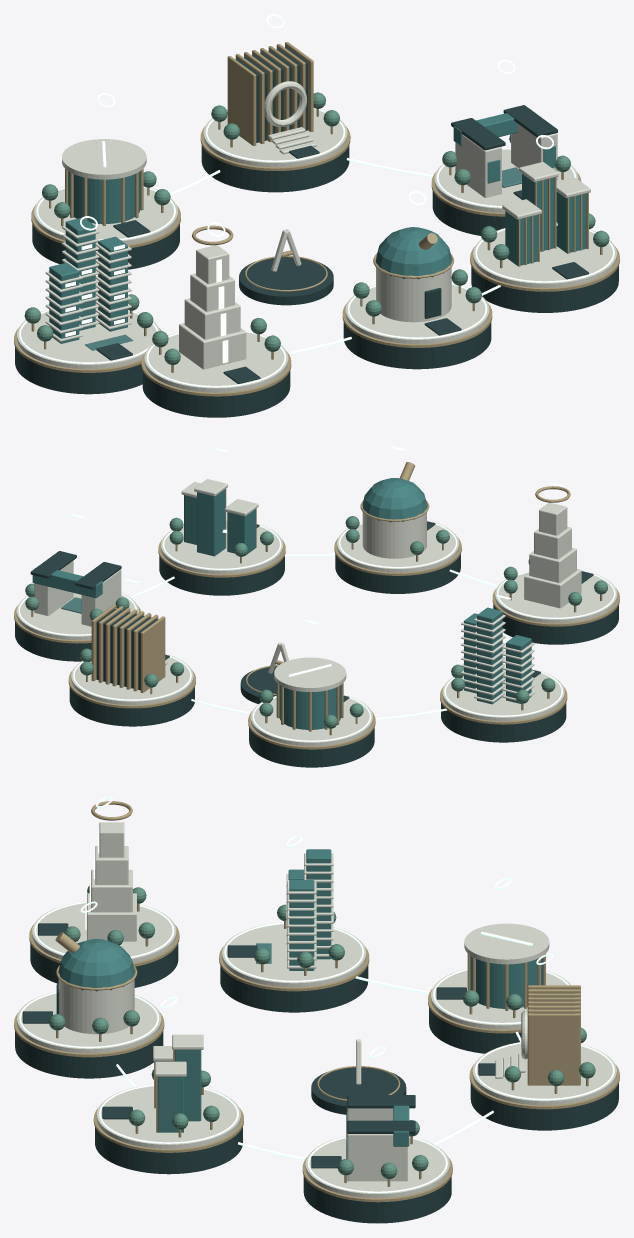
The model's file is apex-world.glb.
3 views of the same model, one above another, from view 1: azimuth 30°, elevation 25°; view 2: azimuth 150°, elevation 25°; view 3: azimuth 270°, elevation 25° (orthographic). The views are drawn at different scales.
Parts seen in each view (by area): view 1: Architecture_6_Warm porcelain, Architecture_0_Warm porcelain, Architecture_5_Warm porcelain, Architecture_2_Champagne alloy, Architecture_4_Warm porcelain, Architecture_1_Warm porcelain, Architecture_2_Midnight mineral, Architecture_3_Warm porcelain, Architecture_0_Smoked jade glazing, Architecture_2_Warm porcelain, Architecture_5_Midnight mineral, Architecture_4_Smoked jade glazing (+22 smaller); view 2: Architecture_6_Warm porcelain, Architecture_2_Champagne alloy, Architecture_0_Warm porcelain, Architecture_5_Warm porcelain, Architecture_1_Warm porcelain, Architecture_2_Midnight mineral, Architecture_3_Warm porcelain, Architecture_4_Warm porcelain, Architecture_0_Smoked jade glazing, Architecture_4_Smoked jade glazing, Architecture_3_Midnight mineral, Architecture_2_Warm porcelain (+22 smaller); view 3: Architecture_6_Warm porcelain, Architecture_0_Warm porcelain, Architecture_3_Warm porcelain, Architecture_5_Warm porcelain, Architecture_2_Champagne alloy, Architecture_4_Warm porcelain, Architecture_3_Midnight mineral, Architecture_1_Warm porcelain, Architecture_2_Warm porcelain, Architecture_2_Midnight mineral, Architecture_4_Midnight mineral, Architecture_0_Midnight mineral (+26 smaller).
Boxes of the visible parts, x1,y1,x2,y2 form: Architecture_6_Warm porcelain: (144,245,288,392); Architecture_0_Warm porcelain: (17,225,159,368); Architecture_5_Warm porcelain: (345,258,489,343); Architecture_2_Champagne alloy: (200,42,350,170); Architecture_4_Warm porcelain: (473,162,616,287); Architecture_1_Warm porcelain: (34,139,177,244); Architecture_2_Midnight mineral: (201,47,349,192); Architecture_3_Warm porcelain: (434,124,578,212); Architecture_0_Smoked jade glazing: (49,217,127,343); Architecture_2_Warm porcelain: (203,81,347,167); Architecture_5_Midnight mineral: (343,288,491,369); Architecture_4_Smoked jade glazing: (505,173,586,265); Architecture_6_Warm porcelain: (495,502,617,623); Architecture_2_Champagne alloy: (68,604,195,708); Architecture_0_Warm porcelain: (442,614,564,721); Architecture_5_Warm porcelain: (337,504,459,572); Architecture_1_Warm porcelain: (250,657,372,746); Architecture_2_Midnight mineral: (69,609,194,726); Architecture_3_Warm porcelain: (16,560,138,639); Architecture_4_Warm porcelain: (161,479,283,574); Architecture_0_Smoked jade glazing: (464,607,531,704); Architecture_4_Smoked jade glazing: (184,489,255,556); Architecture_3_Midnight mineral: (15,551,121,661); Architecture_2_Warm porcelain: (71,654,193,704); Architecture_6_Warm porcelain: (32,822,176,962); Architecture_0_Warm porcelain: (222,853,366,987); Architecture_3_Warm porcelain: (305,1107,449,1198); Architecture_5_Warm porcelain: (17,974,161,1053); Architecture_2_Champagne alloy: (469,985,619,1109); Architecture_4_Warm porcelain: (96,1034,240,1148); Architecture_3_Midnight mineral: (303,1095,451,1223); Architecture_1_Warm porcelain: (431,923,570,1029); Architecture_2_Warm porcelain: (472,1010,616,1105); Architecture_2_Midnight mineral: (470,993,618,1130); Architecture_4_Midnight mineral: (95,1106,242,1174); Architecture_0_Midnight mineral: (220,945,368,1012).
Bounding box in the file's own units: 17.96 × 5.84 × 15.96.
